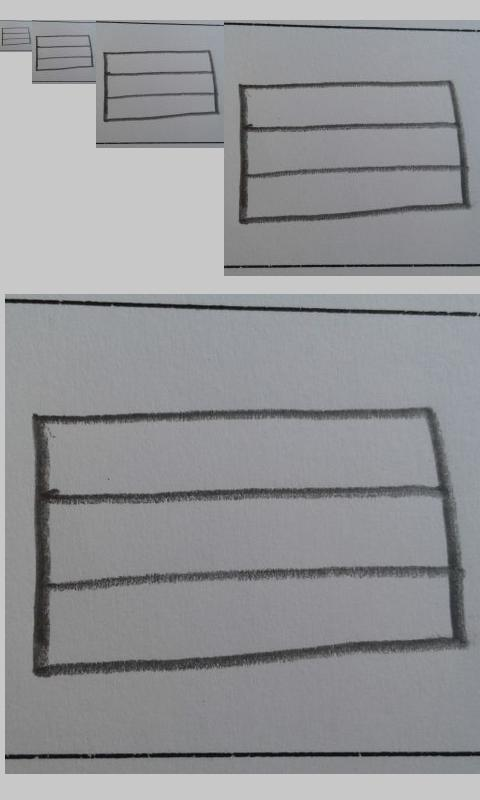list_view: (34, 407, 465, 678), (237, 81, 469, 224), (103, 50, 219, 122), (35, 34, 95, 71), (1, 26, 31, 46)
